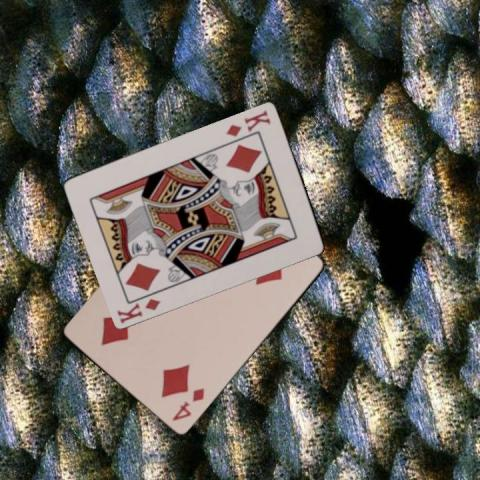4d: (169, 385, 206, 423)
Kd: (222, 106, 272, 138), (114, 295, 162, 325)
